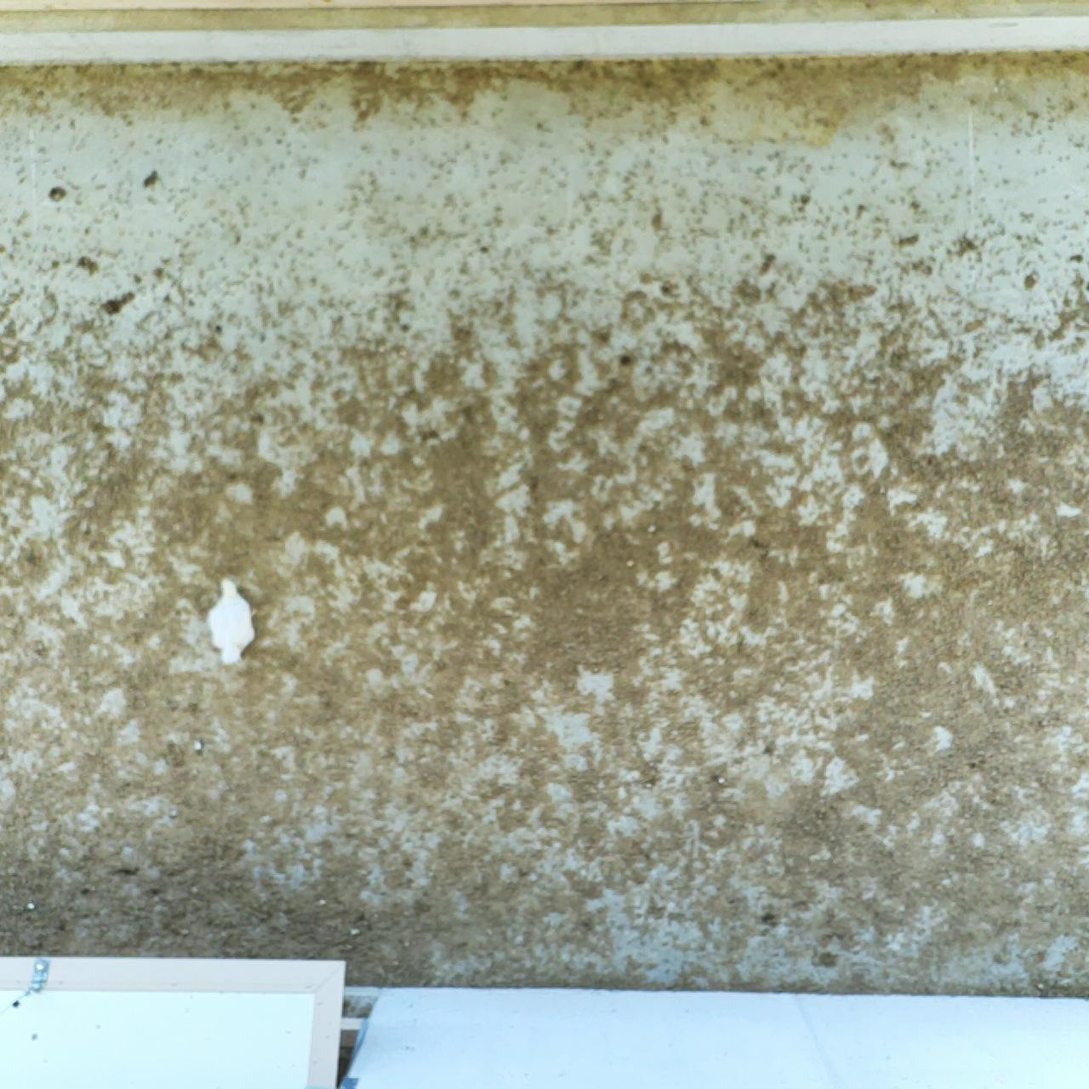chicken: (201, 569, 267, 673)
